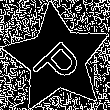P_NE: (26, 27, 88, 90)
